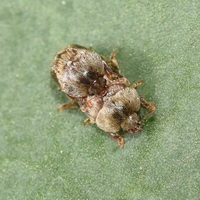insect: (51, 44, 154, 147)
